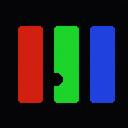2 circle: (50, 73, 62, 85)
